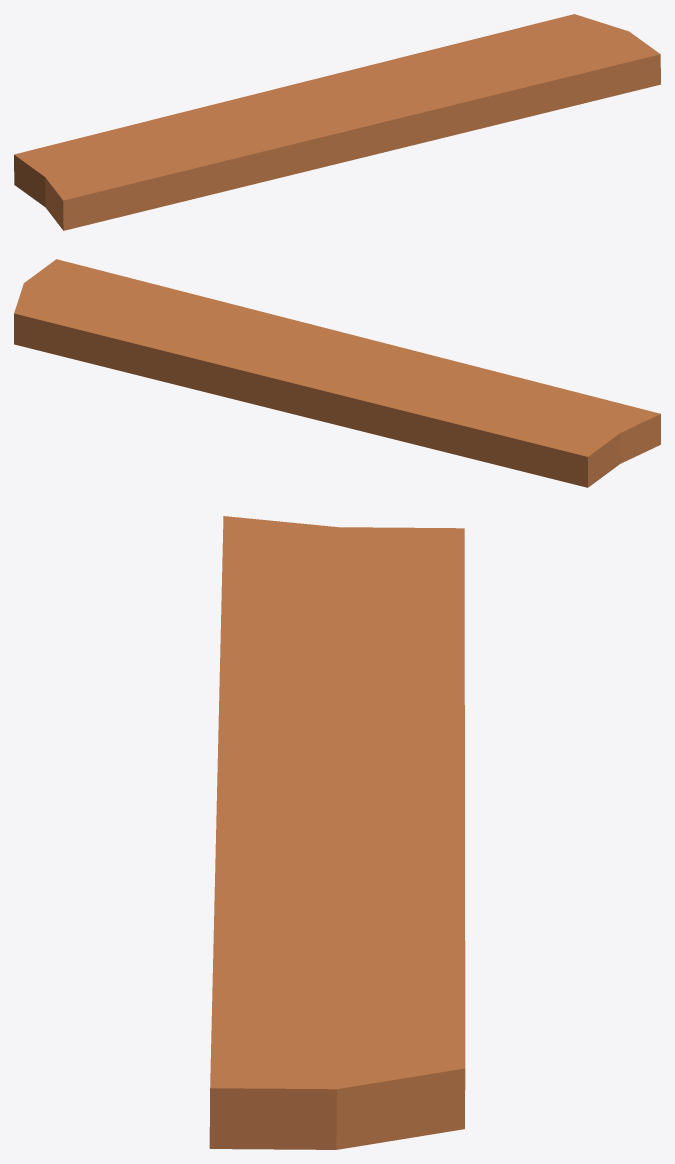
Rendered from wood_plank_02.fbx.
The picture shows the model from 3 angles, top to bottom: view 1: azimuth 30°, elevation 25°; view 2: azimuth 150°, elevation 25°; view 3: azimuth 270°, elevation 25°; orthographic projection. The views are drawn at different scales.
Parts seen in each view (by area): view 1: wood_plank_02; view 2: wood_plank_02; view 3: wood_plank_02.
Boxes of the visible parts, x1,y1,x2,y2 form: wood_plank_02: (14,14,660,230); wood_plank_02: (14,259,660,487); wood_plank_02: (209,516,465,1149).
Bounding box in the file's own units: 198 × 11.08 × 36.85.
Materials: 1 (1 with a texture image).
